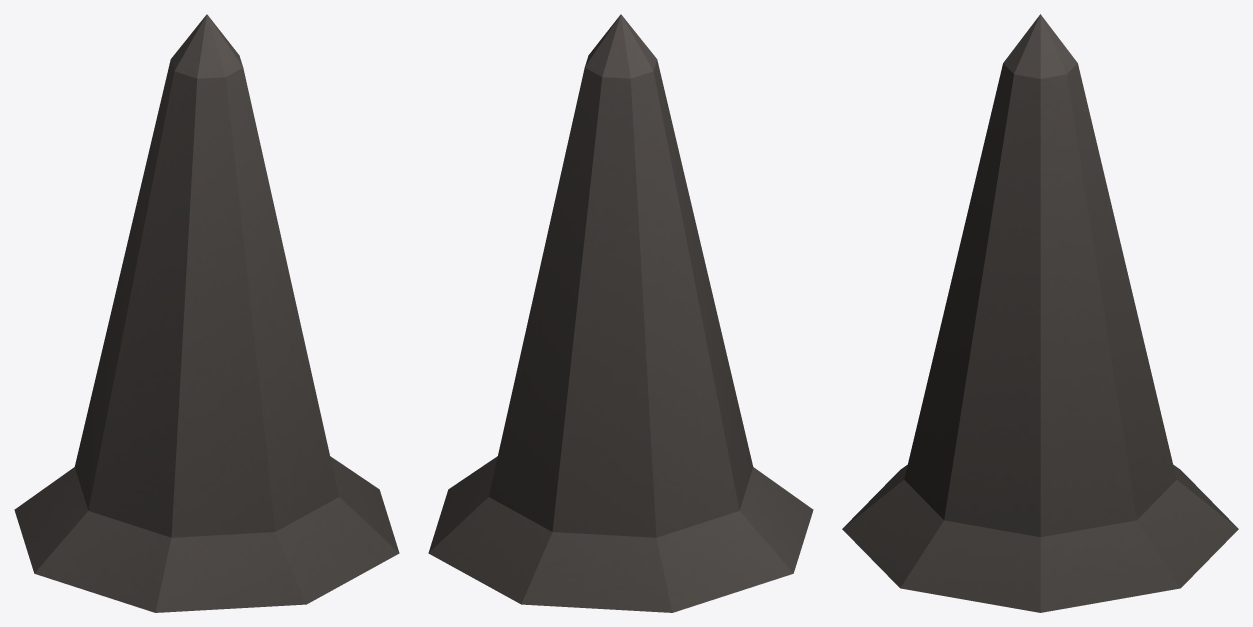
The model's file is Stal_1A.fbx.
3 renders of one model, left to right at view 1: azimuth 30°, elevation 25°; view 2: azimuth 150°, elevation 25°; view 3: azimuth 270°, elevation 25°, orthographic.
Parts seen in each view (by area): view 1: pCone1; view 2: pCone1; view 3: pCone1.
Boxes of the visible parts, left/top/right/bottom form: pCone1: left=14, top=14, right=399, bottom=612; pCone1: left=428, top=14, right=813, bottom=612; pCone1: left=842, top=14, right=1238, bottom=612.
Bounding box in the file's own units: 69.82 × 100 × 69.82.
1 material, 1 textured.
